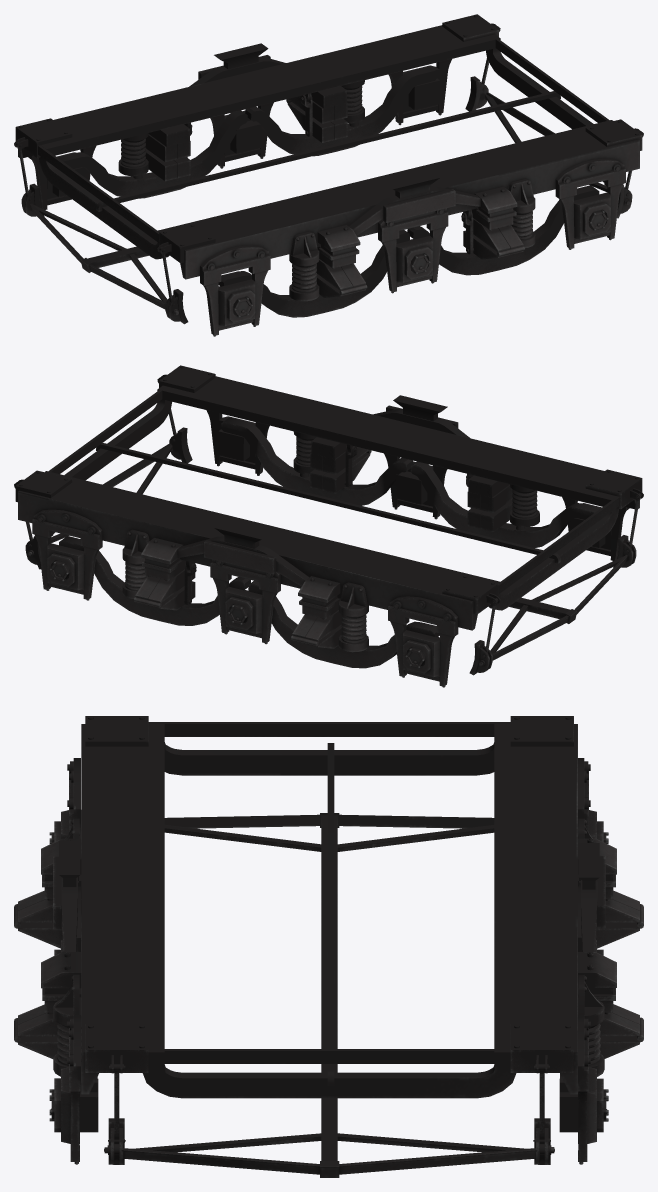
The model's file is SM_Fixing_Wheels.fbx.
3 renders of one model, top to bottom at view 1: azimuth 30°, elevation 25°; view 2: azimuth 150°, elevation 25°; view 3: azimuth 270°, elevation 25°, orthographic. The views are drawn at different scales.
Visible parts, largest first — view 1: SM_Fixing_Wheels; view 2: SM_Fixing_Wheels; view 3: SM_Fixing_Wheels.
Boxes of the visible parts, x1=… form: SM_Fixing_Wheels: x1=14, y1=14, x2=643, y2=336; SM_Fixing_Wheels: x1=14, y1=365, x2=643, y2=687; SM_Fixing_Wheels: x1=14, y1=716, x2=643, y2=1177.
Size of the model in its own units: 528 by 397 by 117.
Materials: 1 (1 with a texture image).
